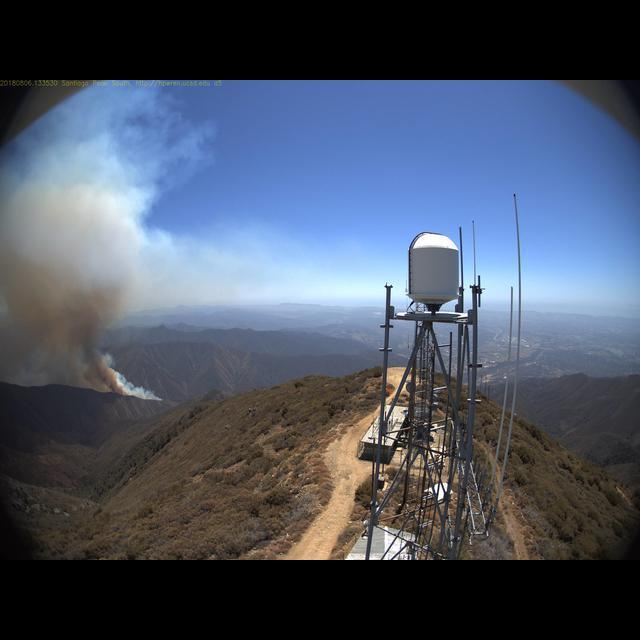Smoke: (2, 142, 174, 402)
